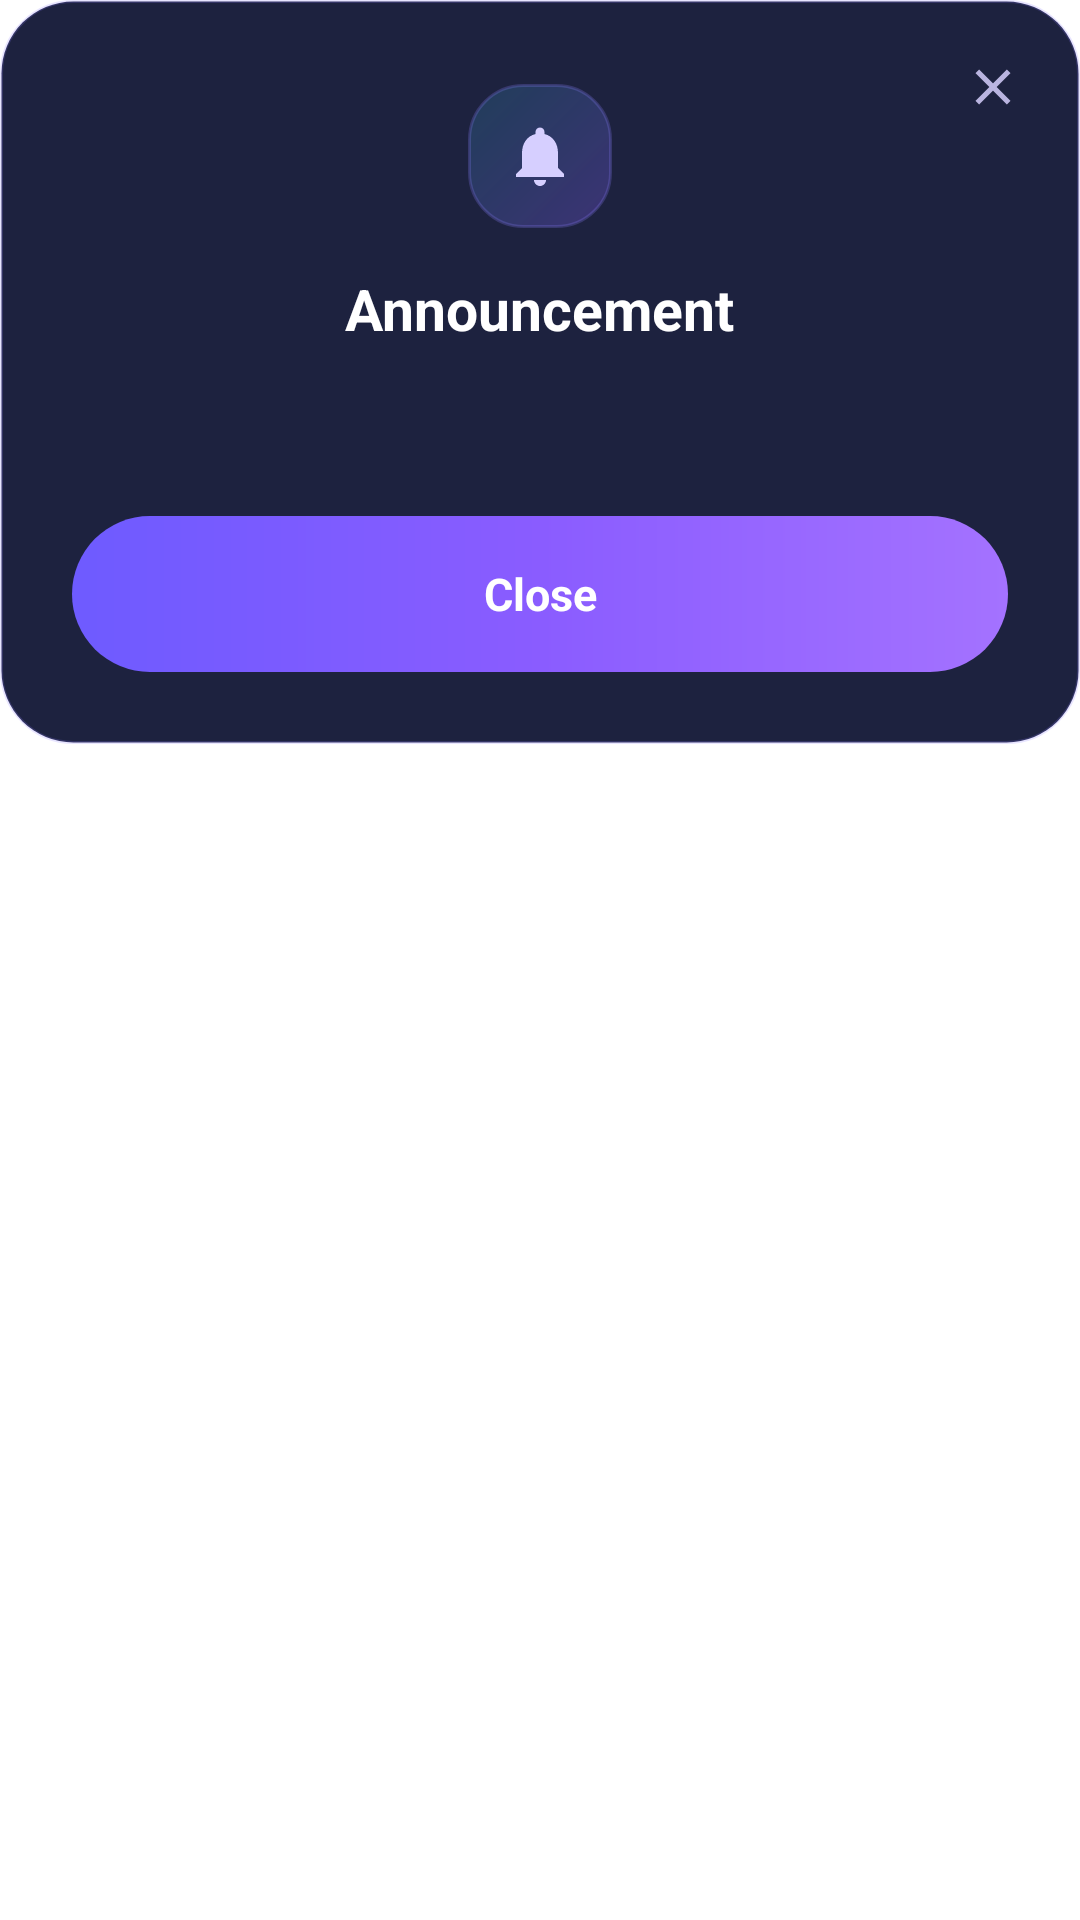

Locate icon controls on the screen. Image size 1080×1920, boxes as bbox=(x1, y1, x2, y2).
Close: bbox=(975, 69, 1011, 105)
